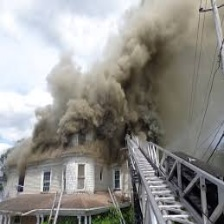smoke: (28, 7, 192, 149)
